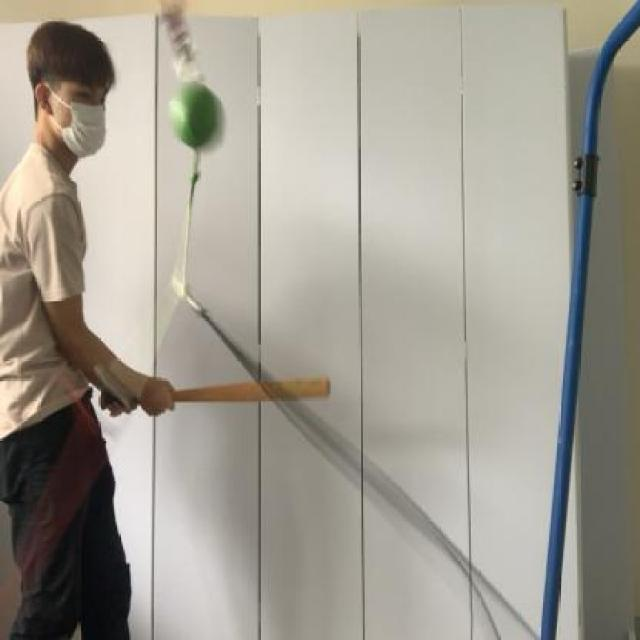baseball: (161, 77, 227, 158)
